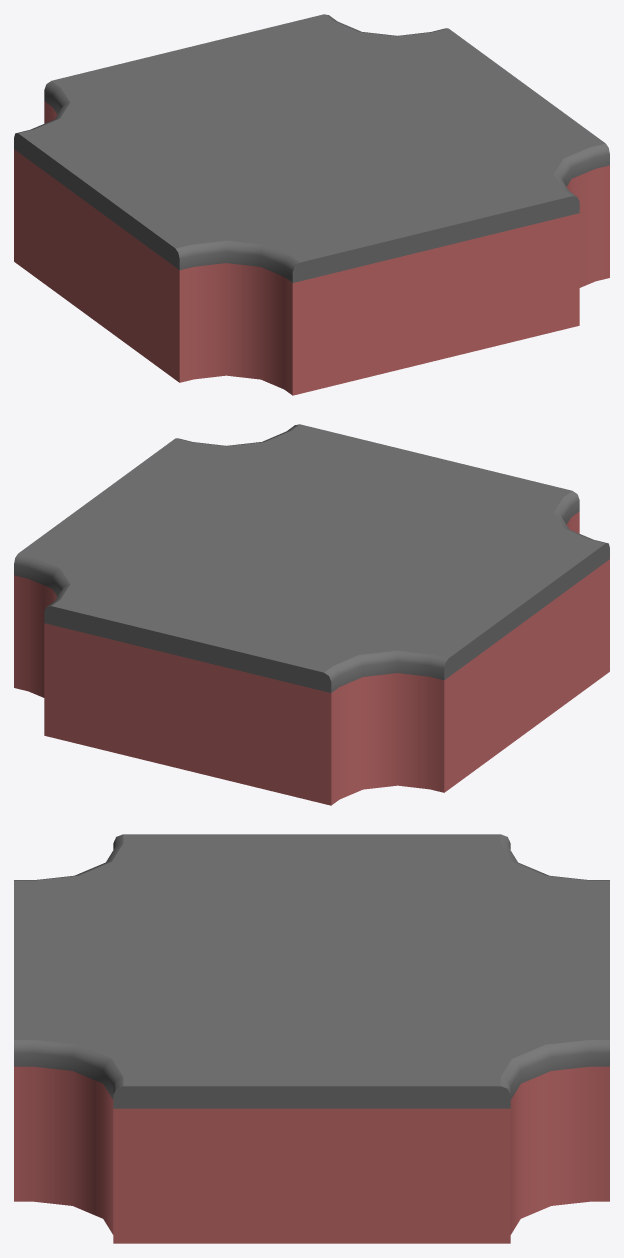
Rendered from Crossroads X.fbx.
3 renders of one model, top to bottom at view 1: azimuth 30°, elevation 25°; view 2: azimuth 150°, elevation 25°; view 3: azimuth 270°, elevation 25°, orthographic. The views are drawn at different scales.
Visible parts, largest first — view 1: Crossroads_01, Crossroads_01_ground; view 2: Crossroads_01, Crossroads_01_ground; view 3: Crossroads_01, Crossroads_01_ground.
Boxes of the visible parts, left/top/right/bottom form: Crossroads_01: left=14, top=14, right=609, bottom=282; Crossroads_01_ground: left=14, top=101, right=609, bottom=395; Crossroads_01: left=14, top=424, right=609, bottom=692; Crossroads_01_ground: left=14, top=511, right=609, bottom=805; Crossroads_01: left=14, top=834, right=609, bottom=1108; Crossroads_01_ground: left=14, top=1066, right=609, bottom=1243.
Size of the model in its own units: 1200 by 350 by 1200.
